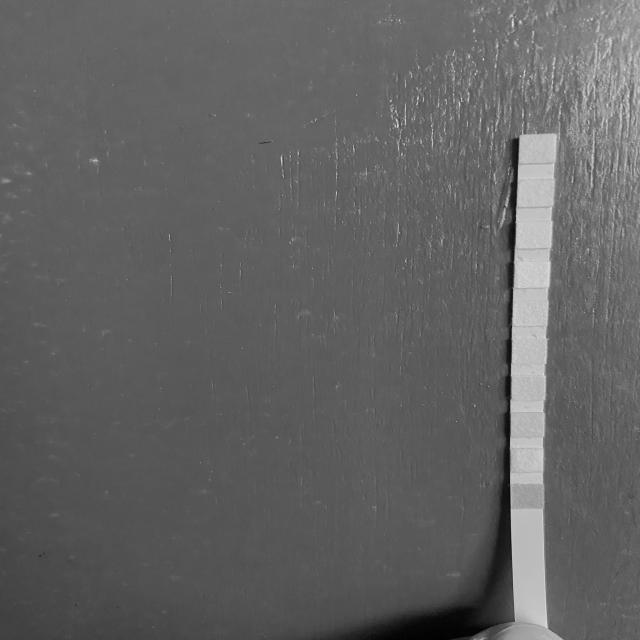Bilirubin: (512, 449, 542, 472)
Blood: (513, 340, 545, 363)
Glucose: (512, 484, 543, 508)
Ketone: (512, 414, 544, 436)
Leukocytes: (520, 137, 554, 162)
Nitrite: (519, 180, 552, 207)
Protein: (517, 263, 548, 286)
SpGravity: (512, 378, 544, 400)
Urobilinogen: (518, 222, 550, 248)
background: (0, 0, 640, 640)
pH: (513, 302, 547, 326)
strip: (510, 133, 556, 614)
